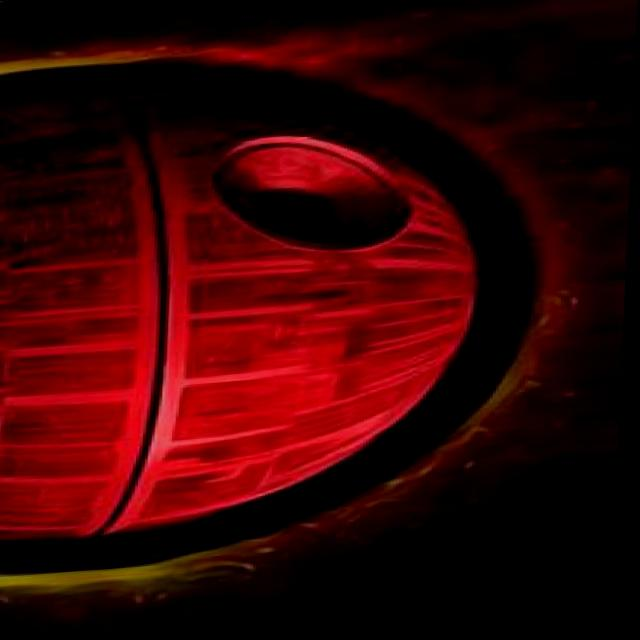deathStar: (0, 49, 485, 547)
